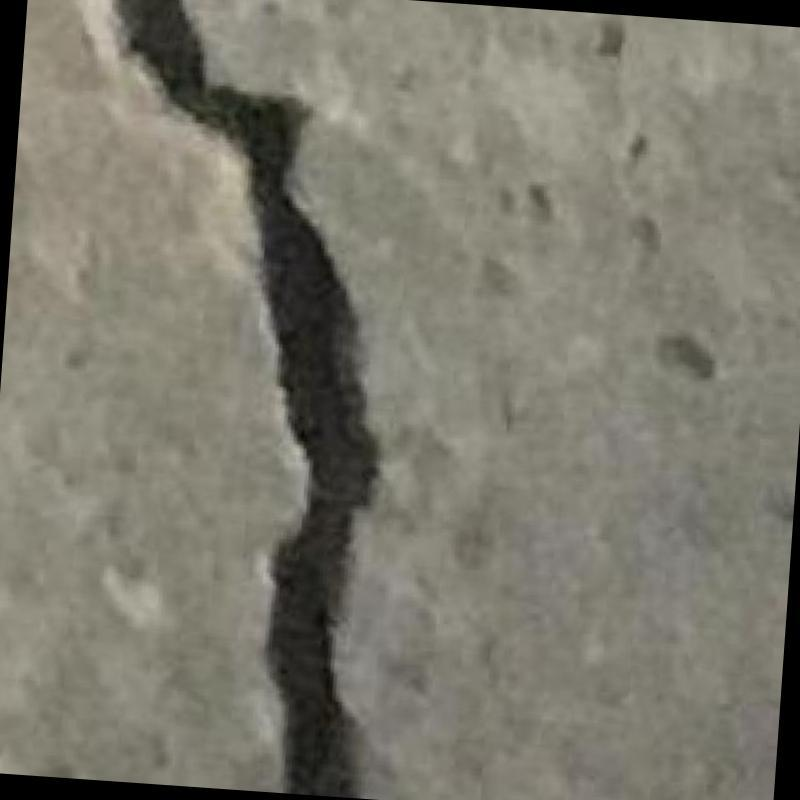crack: (118, 0, 376, 797)
